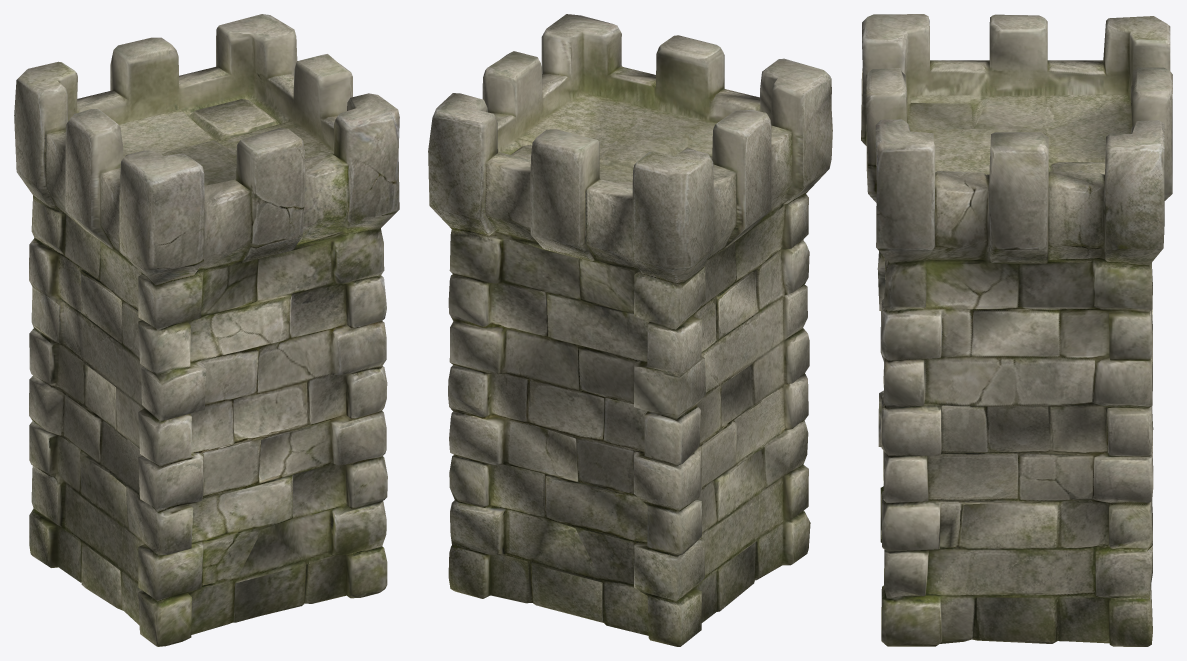
File: wall_corner.glb
3 renders of one model, left to right at view 1: azimuth 30°, elevation 25°; view 2: azimuth 150°, elevation 25°; view 3: azimuth 270°, elevation 25°, orthographic. The views are drawn at different scales.
Visible parts, largest first — view 1: wall_corner; view 2: wall_corner; view 3: wall_corner.
Part boxes in pixels (x1,y1,x2,y2): wall_corner: (14,14,399,646); wall_corner: (428,14,832,646); wall_corner: (861,14,1172,646).
Size of the model in its own units: 0.5728 by 0.9995 by 0.5552.
Materials: 1 (1 with a texture image).
